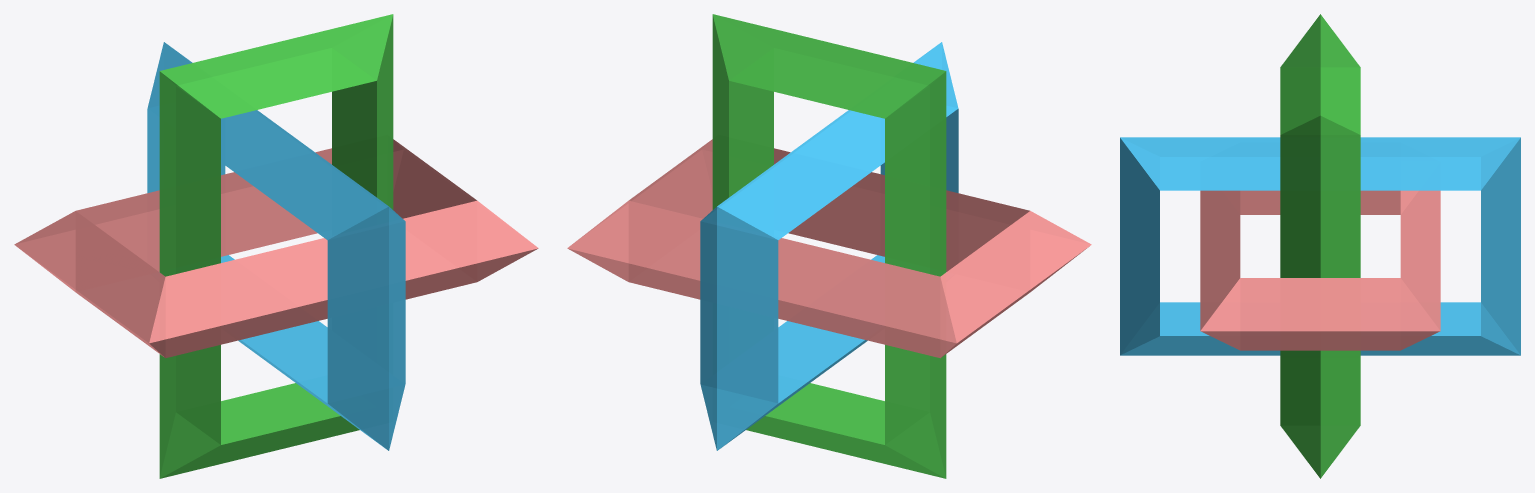
File: BorromeanRings.obj
3 views of the same model, side by side, from view 1: azimuth 30°, elevation 25°; view 2: azimuth 150°, elevation 25°; view 3: azimuth 270°, elevation 25° (orthographic). The views are drawn at different scales.
Size of the model in its own units: 1 by 1 by 1.
